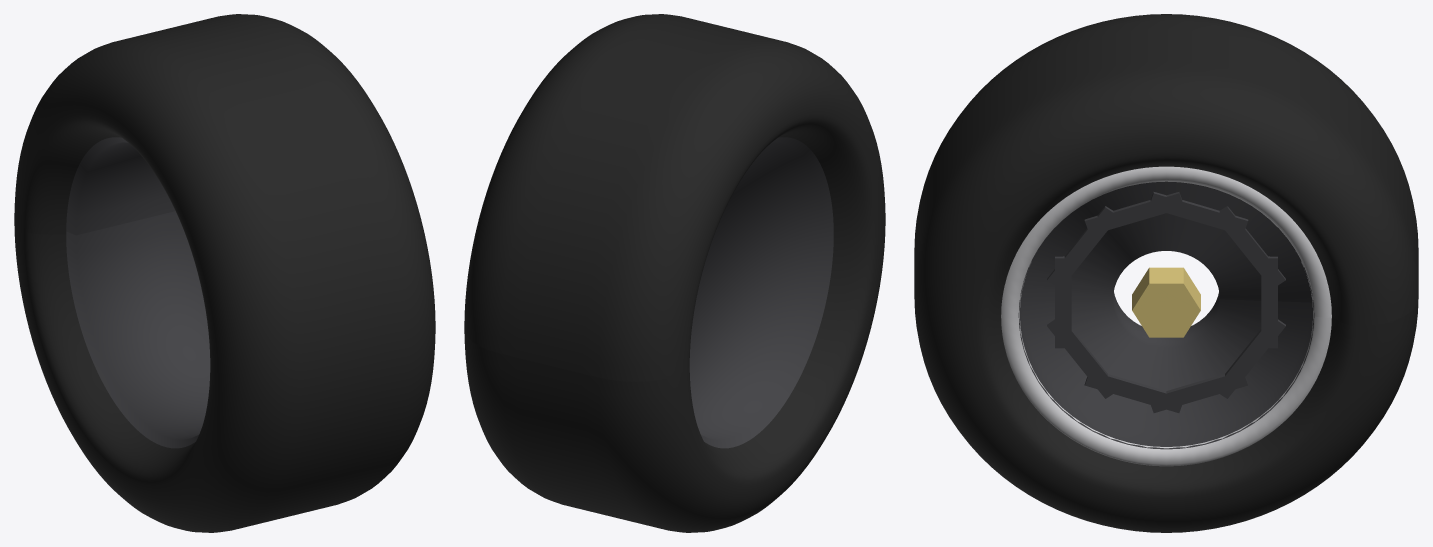
Rendered from wheel_front.glb.
The picture shows the model from 3 angles, left to right: view 1: azimuth 30°, elevation 25°; view 2: azimuth 150°, elevation 25°; view 3: azimuth 270°, elevation 25°; orthographic projection.
Visible parts, largest first — view 1: FrontTire, FrontRim; view 2: FrontTire, FrontRim; view 3: FrontTire, FrontRim, FrontLip.
Part boxes in pixels (x1,y1,x2,y2): FrontTire: (14, 14, 435, 532); FrontRim: (66, 137, 210, 448); FrontTire: (464, 14, 885, 532); FrontRim: (689, 137, 833, 448); FrontTire: (914, 14, 1418, 532); FrontRim: (1018, 181, 1314, 449); FrontLip: (1001, 166, 1331, 466).
Size of the model in its own units: 0.324 by 0.66 by 0.66.
